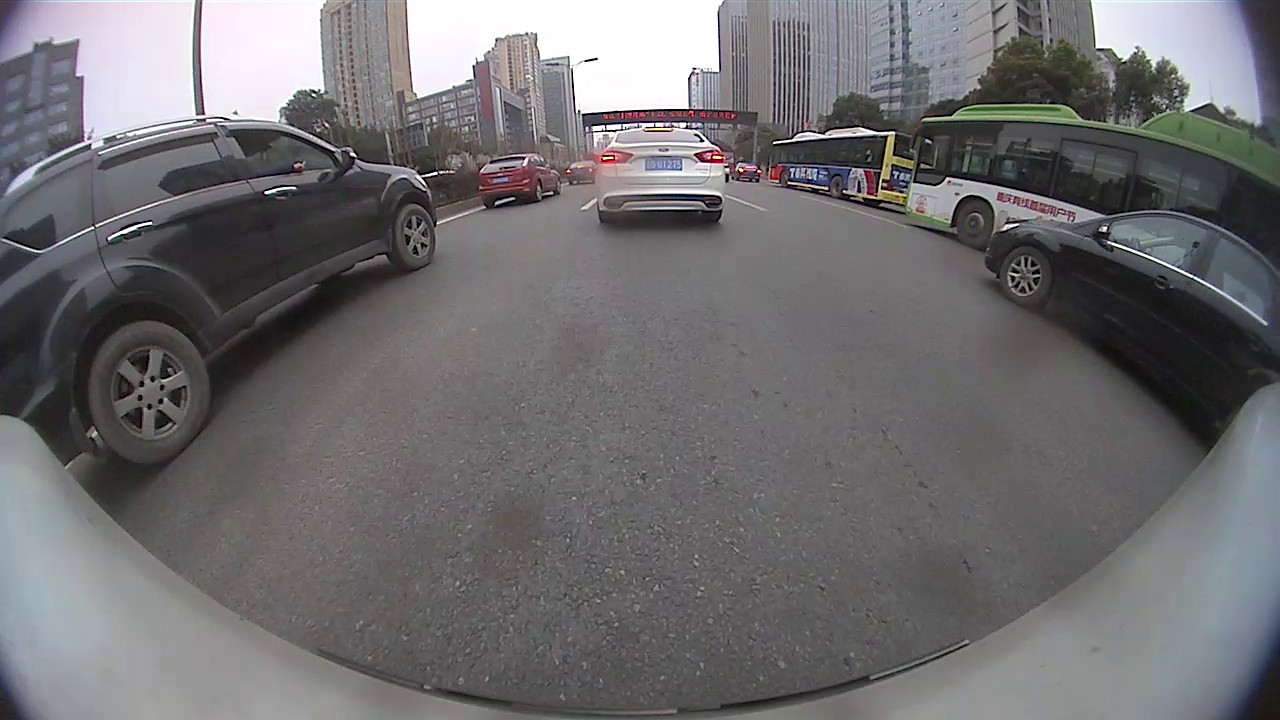bus: (901, 101, 1279, 277), (765, 123, 921, 210)
car: (1, 114, 440, 470), (981, 208, 1279, 455), (592, 125, 728, 227), (475, 150, 565, 211)
front: (997, 245, 1054, 313), (393, 203, 439, 268), (952, 196, 996, 252), (779, 166, 792, 187)
rear: (87, 314, 216, 472), (827, 175, 847, 199), (533, 183, 545, 202)
